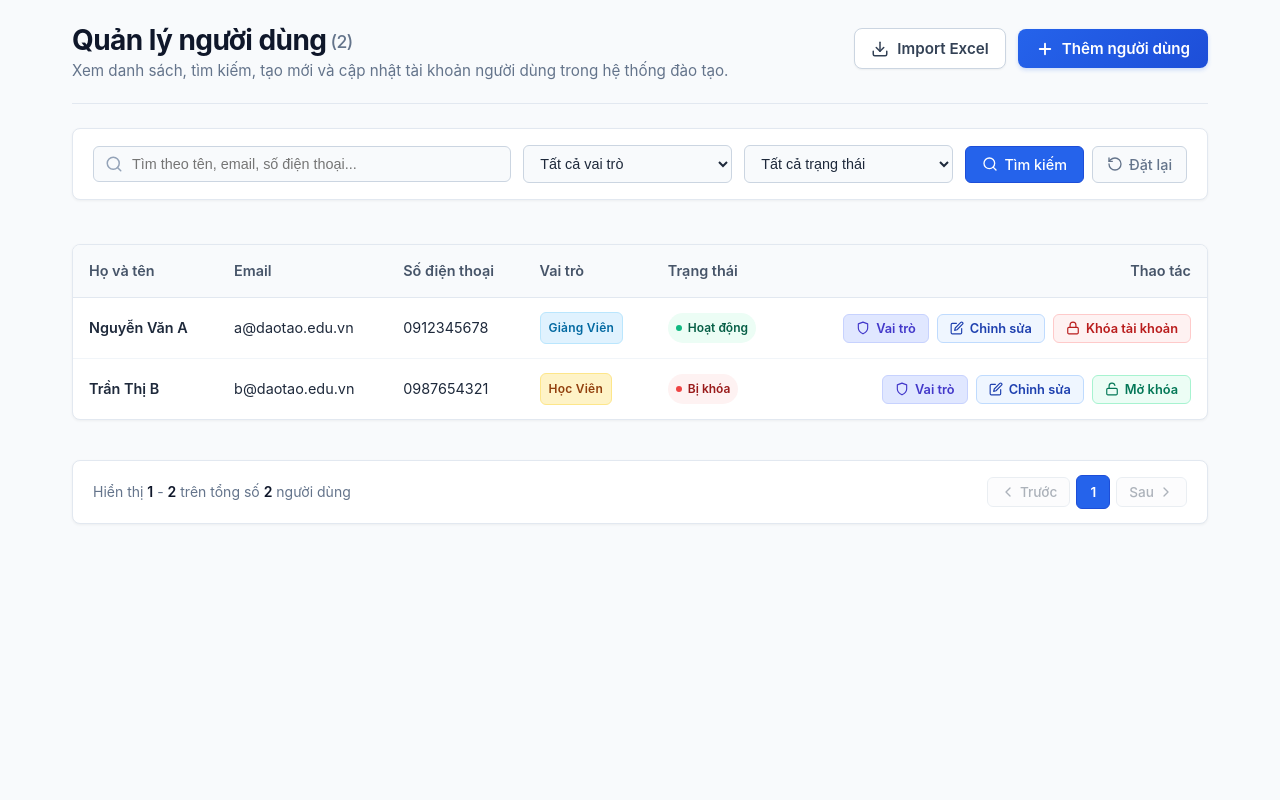
Test: SCRUM-89: User Management Page › 8. mở modal tạo người dùng, nhập dữ liệu, đóng modal và mở lại đảm bảo form hoàn toàn sạch
Note: Mở modal tạo người dùng lần 1
Click the button with test id "btn-create-user". click: x=1113, y=48
box: [1018, 29, 1208, 68]
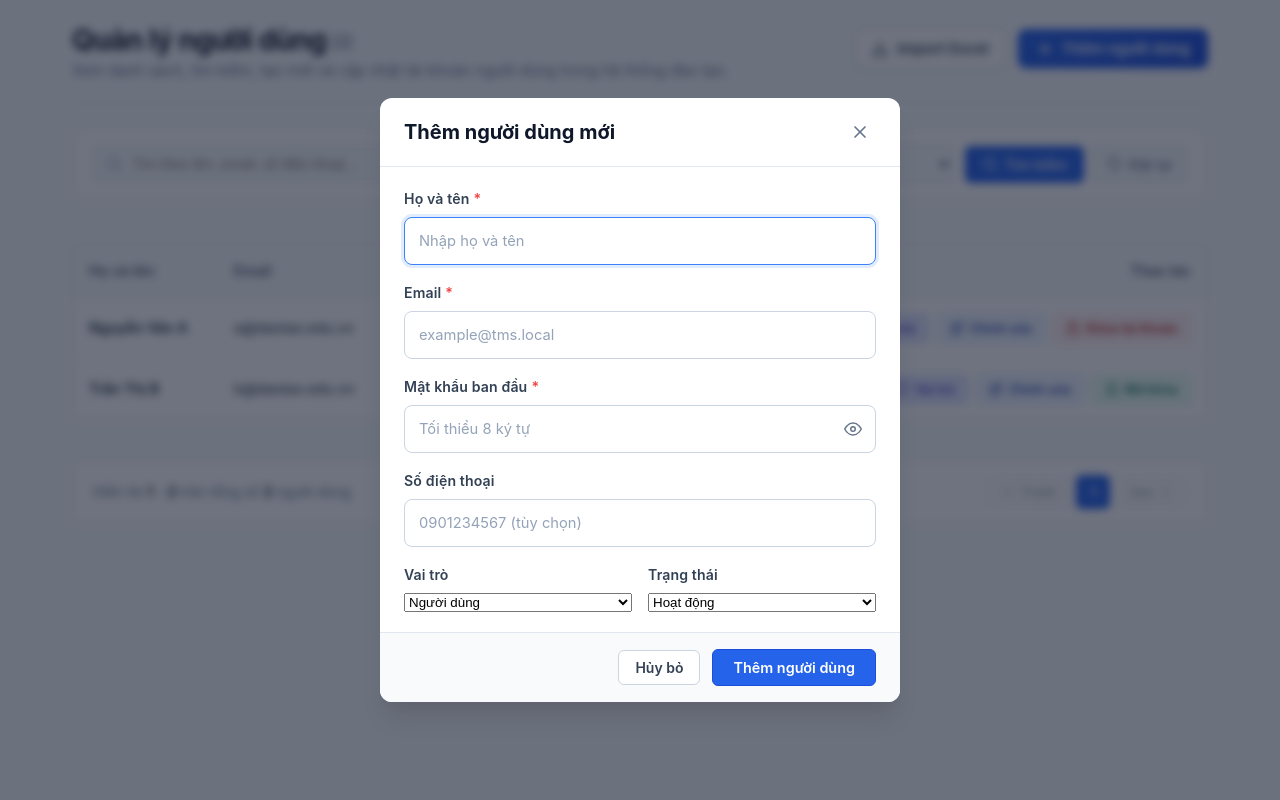
Result: the dialog with test id "create-user-modal" is shown at [380, 98, 900, 702]
Note: Nhập dữ liệu
Type "User Thử Nghiệm" into the field with test id "input-create-name". click: x=640, y=241
box: [404, 217, 876, 265]
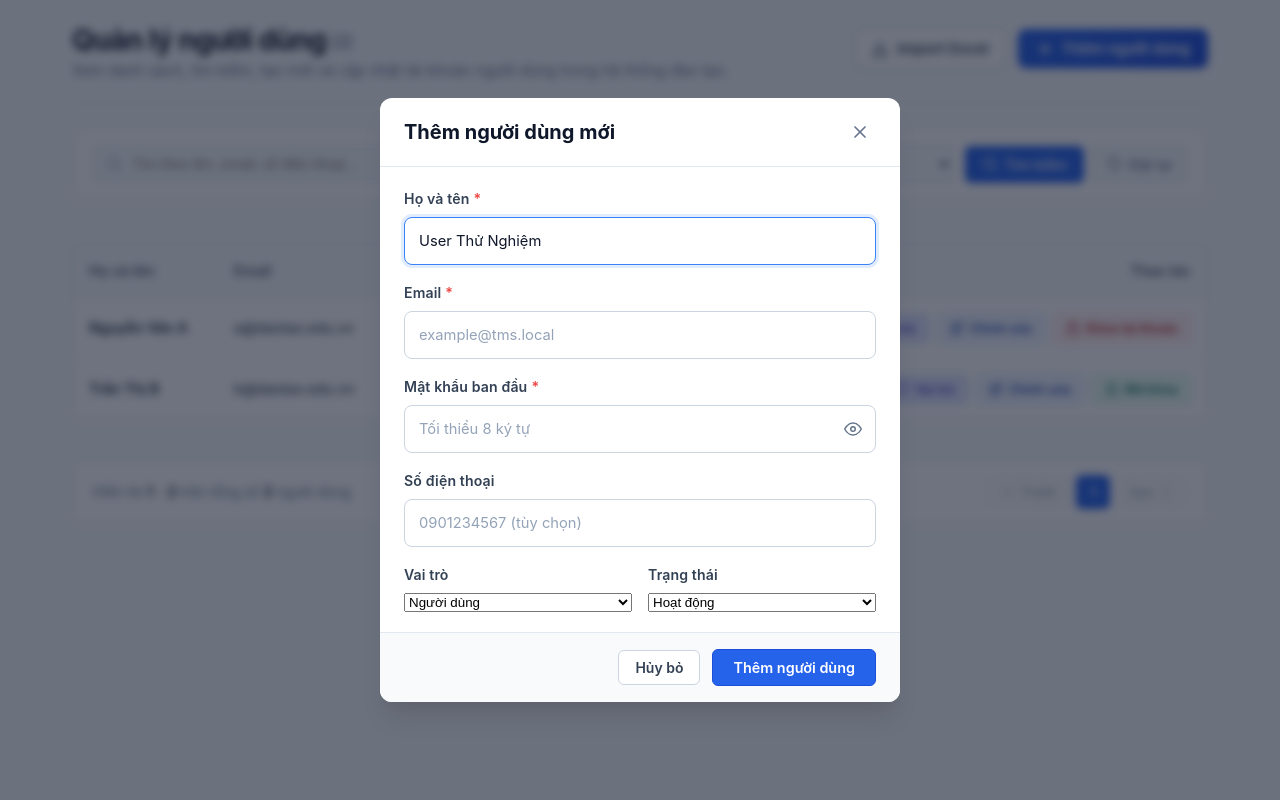
Type "test@daotao.edu.vn" into the field with test id "input-create-email". click: x=640, y=335
box: [404, 311, 876, 359]
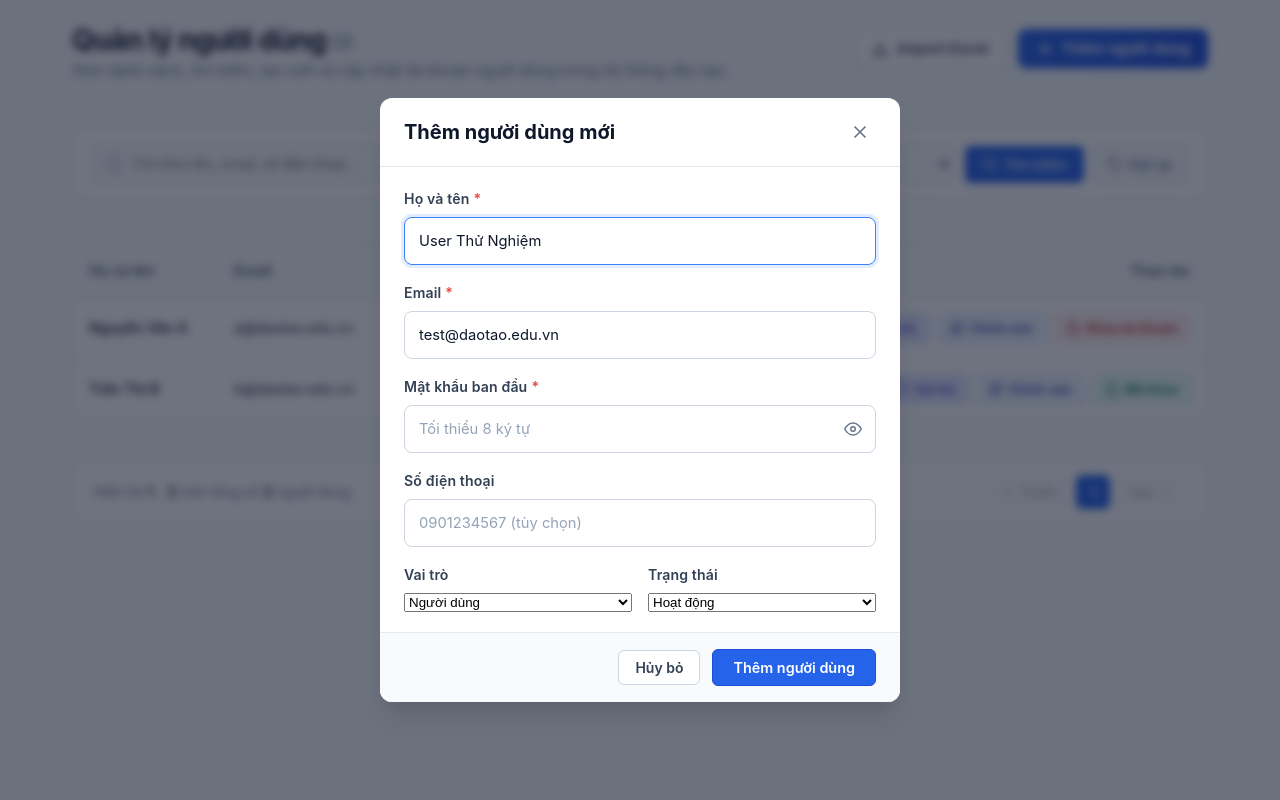
Type "Password123" into the password field with test id "input-create-password". click: x=640, y=429
box: [404, 405, 876, 453]
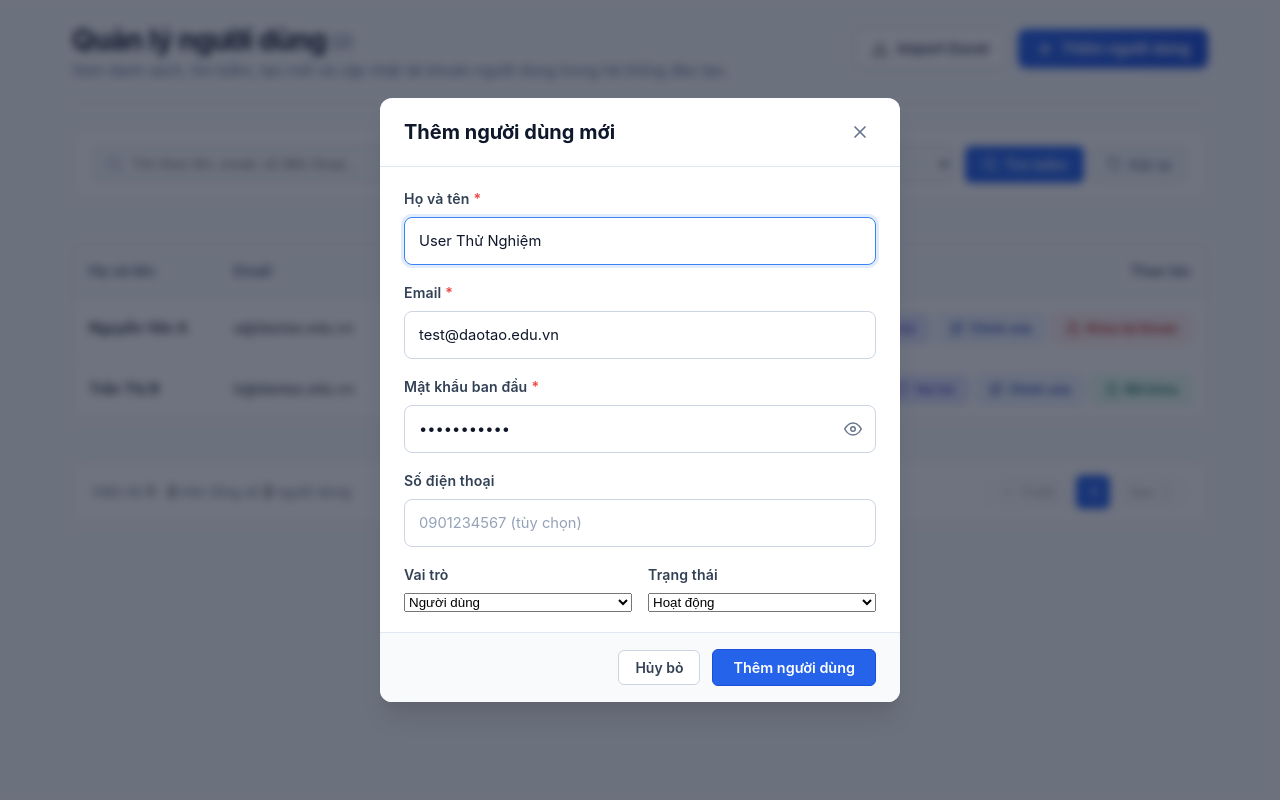
Note: Đóng modal bằng nút Hủy bỏ
Click the button with test id "btn-cancel-create". click: x=659, y=668
box: [618, 650, 700, 685]
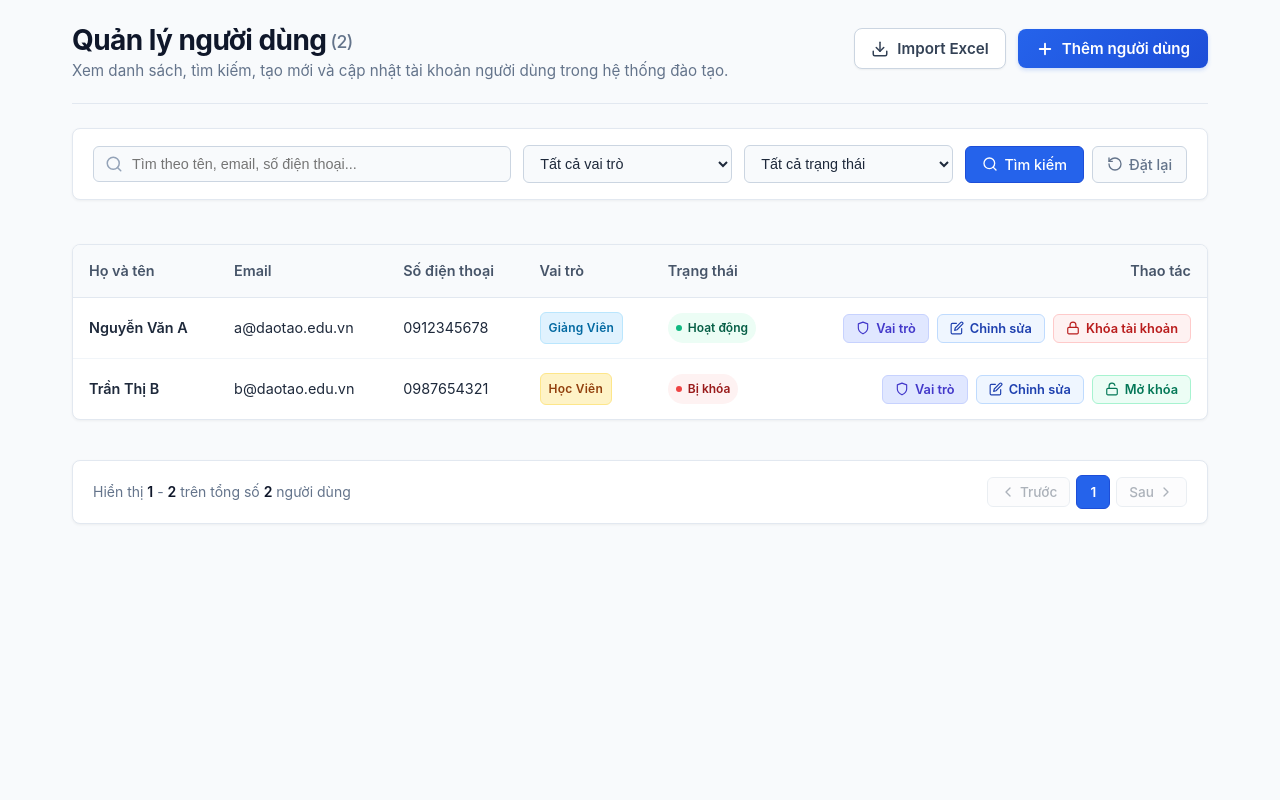
Result: the dialog with test id "create-user-modal" is gone
Note: Mở lại modal lần 2
Click the button with test id "btn-create-user". click: x=1113, y=48
box: [1018, 29, 1208, 68]
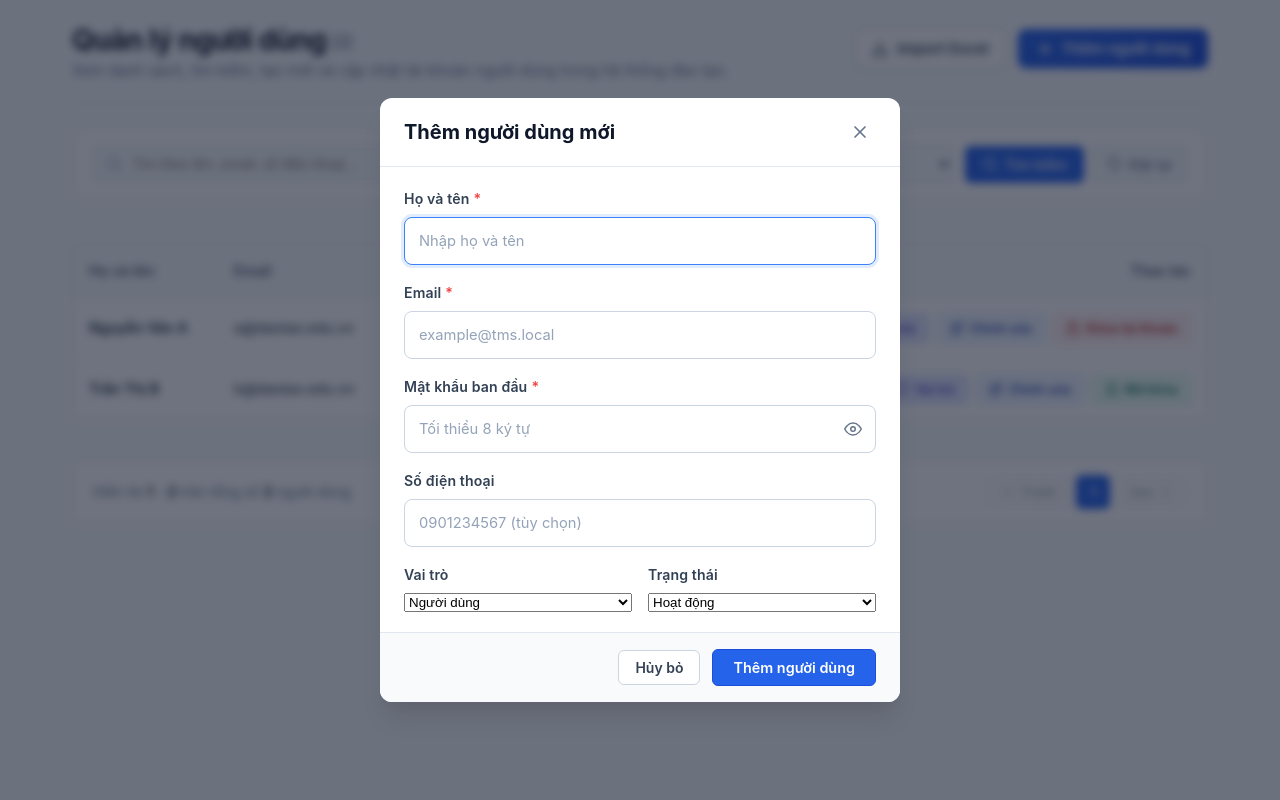
Result: the dialog with test id "create-user-modal" is shown at [380, 98, 900, 702]
Result: the field with test id "input-create-name" is empty at [404, 217, 876, 265]
Result: the field with test id "input-create-email" is empty at [404, 311, 876, 359]
